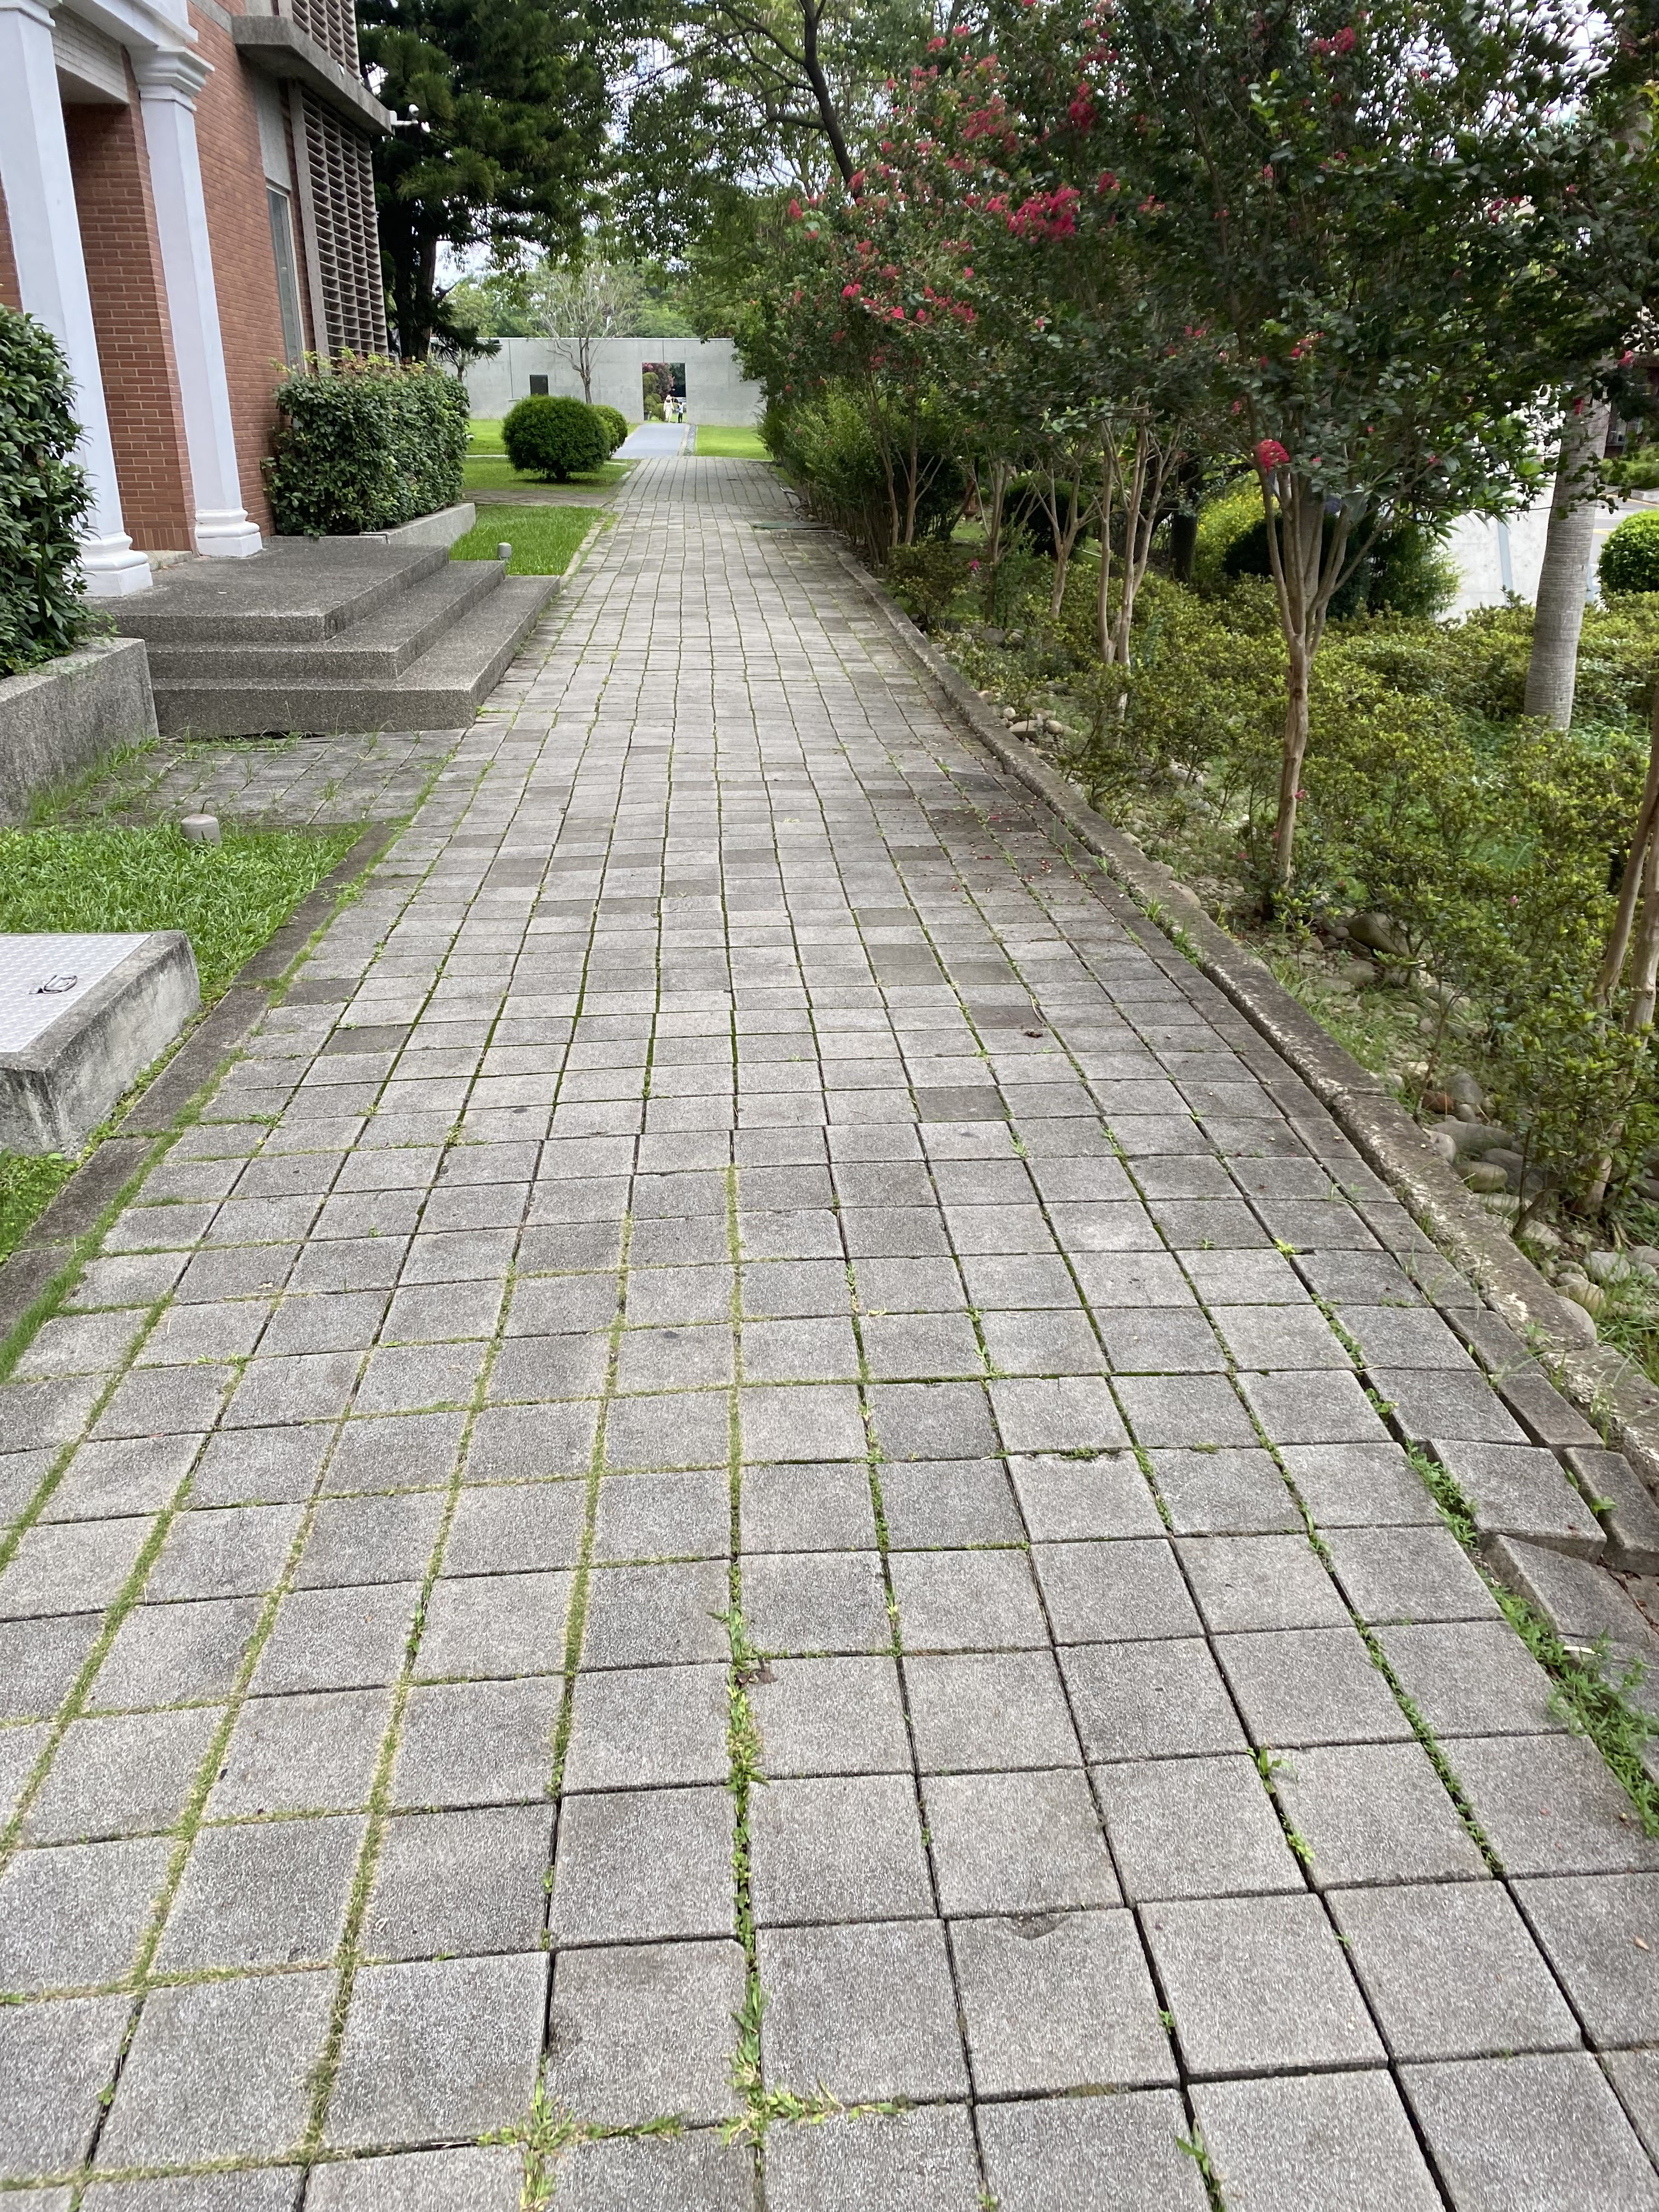0: (10, 540, 1659, 2212)
sidewalk: (589, 456, 931, 1402)
